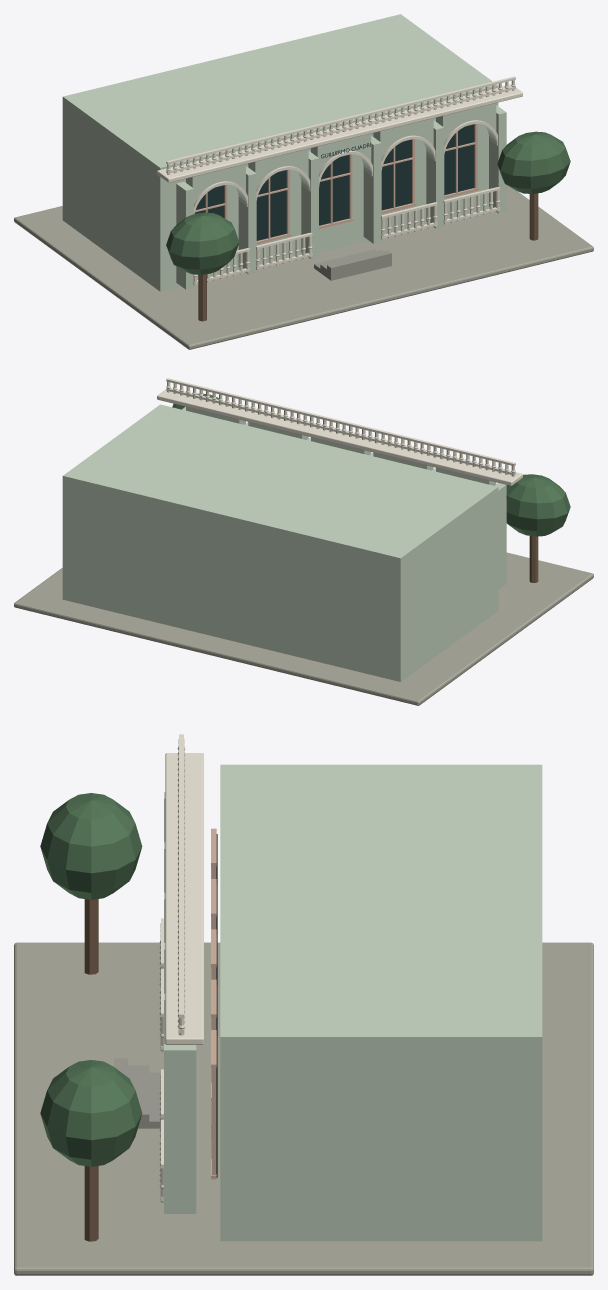
Rendered from gms-38.glb.
The picture shows the model from 3 angles, top to bottom: view 1: azimuth 30°, elevation 25°; view 2: azimuth 150°, elevation 25°; view 3: azimuth 270°, elevation 25°; orthographic projection. The views are drawn at different scales.
Visible parts, largest first — view 1: Single-storey school behind gallery, Context plinth, Cream arch trim, Tall gallery window recess, Broadleaf canopy, Tall gallery window jamb, Entry step, Native trunk; view 2: Single-storey school behind gallery, Context plinth, Cream arch trim, Broadleaf canopy, Native trunk; view 3: Single-storey school behind gallery, Context plinth, Broadleaf canopy, Cream arch trim, Native trunk, Tall gallery window jamb, Entry step.
Part boxes in pixels (<box>): Single-storey school behind gallery: <box>62,14,506,291</box>; Context plinth: <box>14,185,593,349</box>; Cream arch trim: <box>157,76,522,285</box>; Tall gallery window recess: <box>194,124,474,240</box>; Broadleaf canopy: <box>166,131,570,274</box>; Tall gallery window jamb: <box>195,124,478,244</box>; Entry step: <box>314,249,391,280</box>; Native trunk: <box>198,193,538,321</box>; Single-storey school behind gallery: <box>62,404,506,681</box>; Context plinth: <box>14,552,593,705</box>; Cream arch trim: <box>157,378,522,485</box>; Broadleaf canopy: <box>172,393,570,536</box>; Native trunk: <box>529,536,538,582</box>; Single-storey school behind gallery: <box>164,764,542,1241</box>; Context plinth: <box>14,942,593,1275</box>; Broadleaf canopy: <box>40,793,142,1166</box>; Cream arch trim: <box>159,734,203,1202</box>; Native trunk: <box>84,899,98,1241</box>; Tall gallery window jamb: <box>211,828,216,1179</box>; Entry step: <box>114,1058,160,1128</box>.
Size of the model in its own units: 12 by 4.09 by 9.
